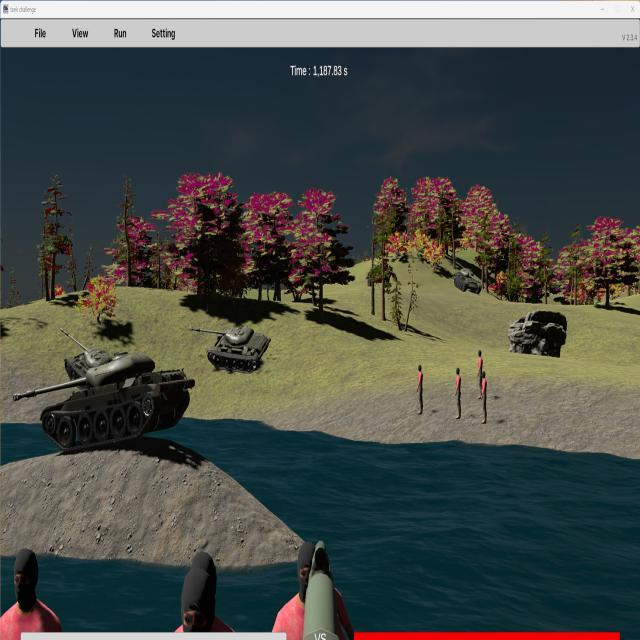Human: (480, 369, 488, 425), (454, 366, 462, 420), (416, 363, 424, 416), (454, 367, 462, 420)
Tank: (12, 353, 195, 453), (56, 327, 121, 400), (189, 323, 271, 374), (453, 269, 483, 294)
